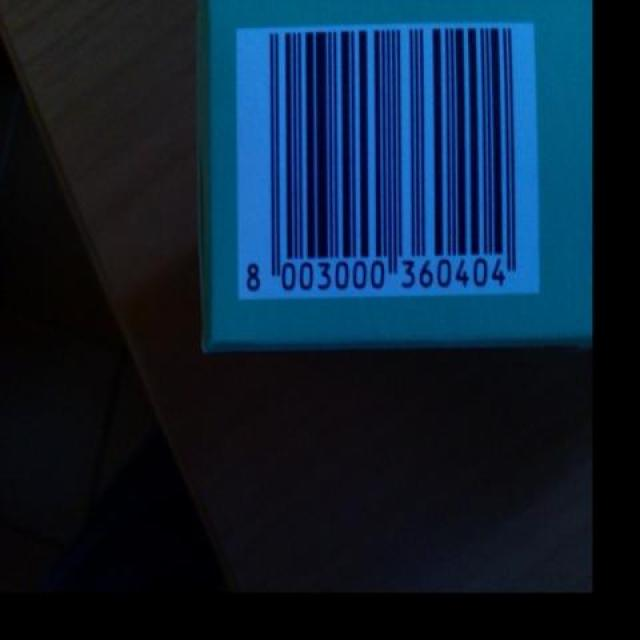Barcode: (235, 22, 540, 299)
